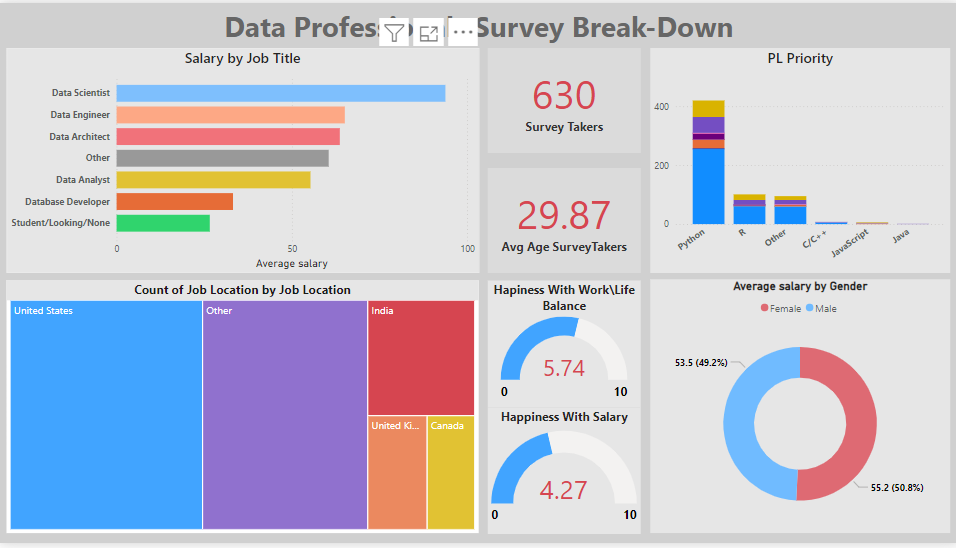

What the dashboard file says about the page in this screenshot:
{"tool":"powerbi","page":{"name":"Page 1","canvas":[1280,720],"ordinal":0},"visuals":[{"type":"textbox","box":[0,0,1279.5,60.3],"z":0},{"type":"card","fields":{"Values":["CountNonNull(Data Professional Survey.Unique ID)"]},"box":[651.4,60,204.3,140],"z":1000},{"type":"card","fields":{"Values":["Avg(Data Professional Survey.Q10 - Current Age)"]},"box":[651.4,220,204.3,140],"z":2000},{"type":"barChart","title":"Salary by Job Title","fields":{"Category":["Data Professional Survey.Q1 - Which Title Best Fits your Current Role?.1"],"Y":["Avg(Data Professional Survey.Average salary)"],"Series":["Data Professional Survey.Q1 - Which Title Best Fits your Current Role?.1"]},"box":[10.3,60.3,629.5,300],"z":3000},{"type":"columnChart","title":"PL Priority","fields":{"Category":["Data Professional Survey.Favourite PL"],"Y":["CountNonNull(Data Professional Survey.Unique ID)"],"Series":["Data Professional Survey.Q1 - Which Title Best Fits your Current Role?.1"]},"box":[868.3,60,400,300],"z":4000},{"type":"treemap","fields":{"Group":["Data Professional Survey.Job Location"],"Values":["CountNonNull(Data Professional Survey.Job Location)"]},"box":[10.3,370.5,629.5,337.2],"z":5000},{"type":"gauge","title":"Hapiness With Work\\Life Balance","fields":{"Y":["Avg(Data Professional Survey.Work\\Life Balance points)"],"MinValue":["Min(Data Professional Survey.Work\\Life Balance points)"],"MaxValue":["Max(Data Professional Survey.Work\\Life Balance points)"]},"box":[651.3,370.5,203.8,169.2],"z":6000},{"type":"gauge","title":"Happiness With Salary","fields":{"MinValue":["Min(Data Professional Survey.Salary Satisfaction point 1-10)"],"MaxValue":["Max(Data Professional Survey.Salary Satisfaction point 1-10)"],"Y":["Avg(Data Professional Survey.Salary Satisfaction point 1-10)"]},"box":[651.3,539.7,203.8,167.9],"z":7000},{"type":"donutChart","title":"Average salary by Gender","fields":{"Category":["Data Professional Survey.Gender"],"Y":["Avg(Data Professional Survey.Average salary)"]},"box":[868.3,368.3,400,338.3],"z":8000}]}

Visuals, with their boxes in screenshot pixels (x1, y1, x2, y2), scaled from the page's 1280x720 canvas onto the 956x548 screenshot:
textbox: [left=0, top=0, right=955, bottom=46]
card - CountNonNull(Data Professional Survey.Unique ID): [left=487, top=46, right=639, bottom=152]
card - Avg(Data Professional Survey.Q10 - Current Age): [left=487, top=167, right=639, bottom=274]
"Salary by Job Title" barChart: [left=8, top=46, right=478, bottom=274]
"PL Priority" columnChart: [left=649, top=46, right=947, bottom=274]
treemap - Data Professional Survey.Job Location x CountNonNull(Data Professional Survey.Job Location): [left=8, top=282, right=478, bottom=539]
"Hapiness With Work\Life Balance" gauge: [left=486, top=282, right=639, bottom=411]
"Happiness With Salary" gauge: [left=486, top=411, right=639, bottom=539]
"Average salary by Gender" donutChart: [left=649, top=280, right=947, bottom=538]
